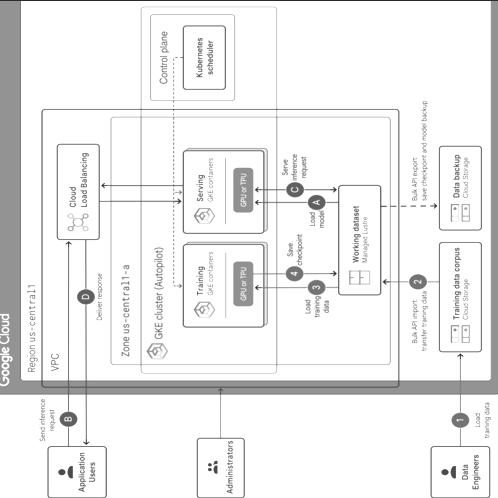actor: (430, 446, 489, 498), (48, 446, 106, 498), (196, 439, 244, 498)
compute: (182, 242, 264, 326), (182, 150, 264, 234), (182, 24, 226, 88)
data_flow: (66, 242, 70, 446), (84, 242, 88, 446), (172, 114, 176, 230), (99, 199, 181, 202), (458, 394, 462, 446), (264, 285, 326, 288), (264, 272, 326, 275), (264, 187, 326, 190), (218, 392, 222, 438), (382, 280, 438, 283), (382, 204, 438, 207), (99, 184, 181, 186), (264, 200, 326, 202)
database_storage: (334, 185, 382, 294), (439, 242, 480, 352), (439, 144, 480, 228)
network_security: (56, 142, 98, 240)
trust_boundary: (0, 0, 498, 394), (21, 2, 488, 382), (54, 9, 387, 377), (110, 116, 390, 364), (147, 124, 276, 362), (170, 17, 254, 96)
